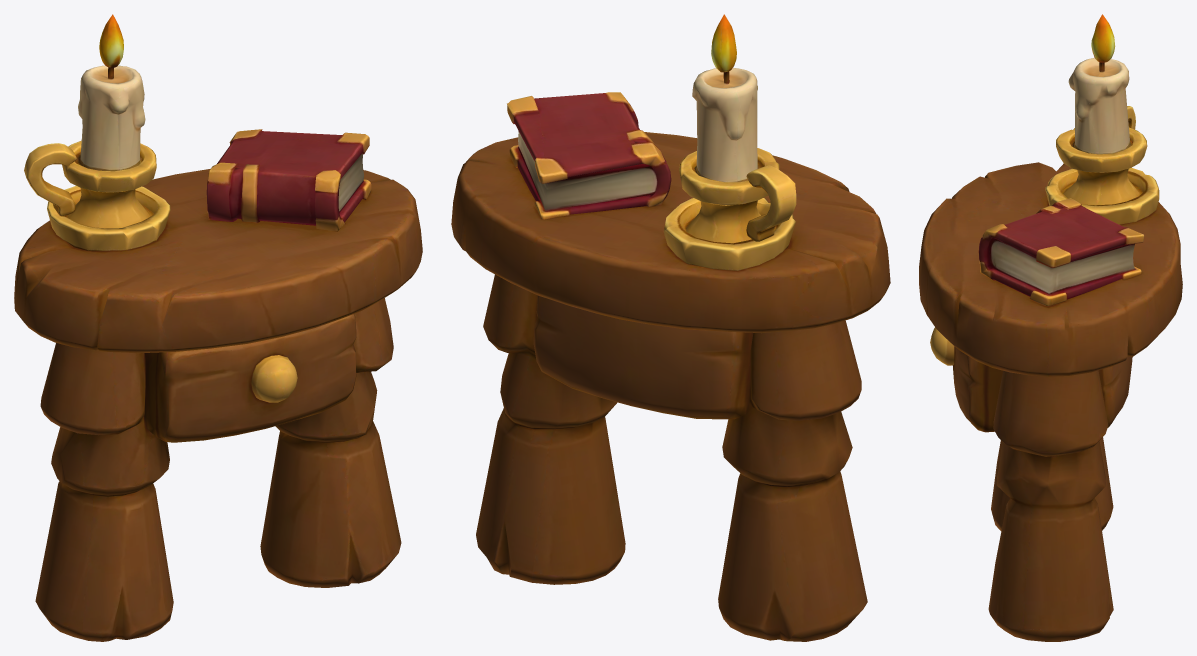
Rendered from aile_tablenuit.glb.
3 views of the same model, side by side, from view 1: azimuth 30°, elevation 25°; view 2: azimuth 150°, elevation 25°; view 3: azimuth 270°, elevation 25° (orthographic). The views are drawn at different scales.
Visible parts, largest first — view 1: geometry_0; view 2: geometry_0; view 3: geometry_0.
Boxes of the visible parts, bbox=[...] form: geometry_0: bbox=[14, 14, 422, 641]; geometry_0: bbox=[451, 14, 890, 641]; geometry_0: bbox=[919, 14, 1182, 641].
Bounding box in the file's own units: 0.6616 × 0.9531 × 0.434.
1 material, 1 textured.
